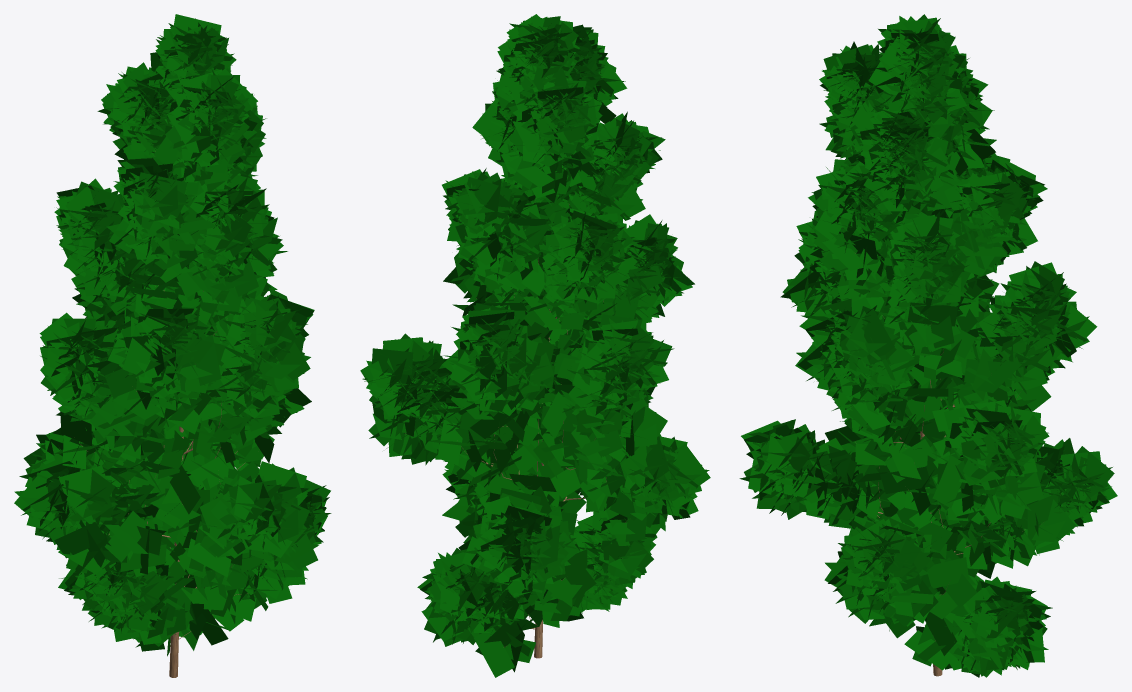
File: arbol.obj
3 renders of one model, left to right at view 1: azimuth 30°, elevation 25°; view 2: azimuth 150°, elevation 25°; view 3: azimuth 270°, elevation 25°, orthographic. The views are drawn at different scales.
Visible parts, largest first — view 1: leaves, tree; view 2: leaves, tree; view 3: leaves.
Boxes of the visible parts, <box> form: leaves: <box>14,14,331,656</box>; tree: <box>79,151,279,677</box>; leaves: <box>360,14,710,677</box>; tree: <box>405,200,625,658</box>; leaves: <box>739,14,1117,677</box>.
Bounding box in the file's own units: 5.32 × 10.62 × 5.53.
